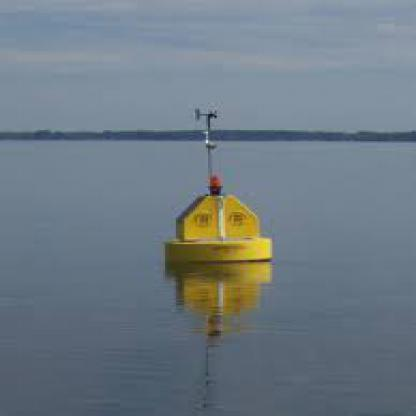buoy: (152, 101, 281, 272)
